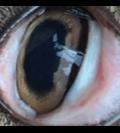eye_membrane: (39, 22, 120, 125), (0, 9, 44, 118)
